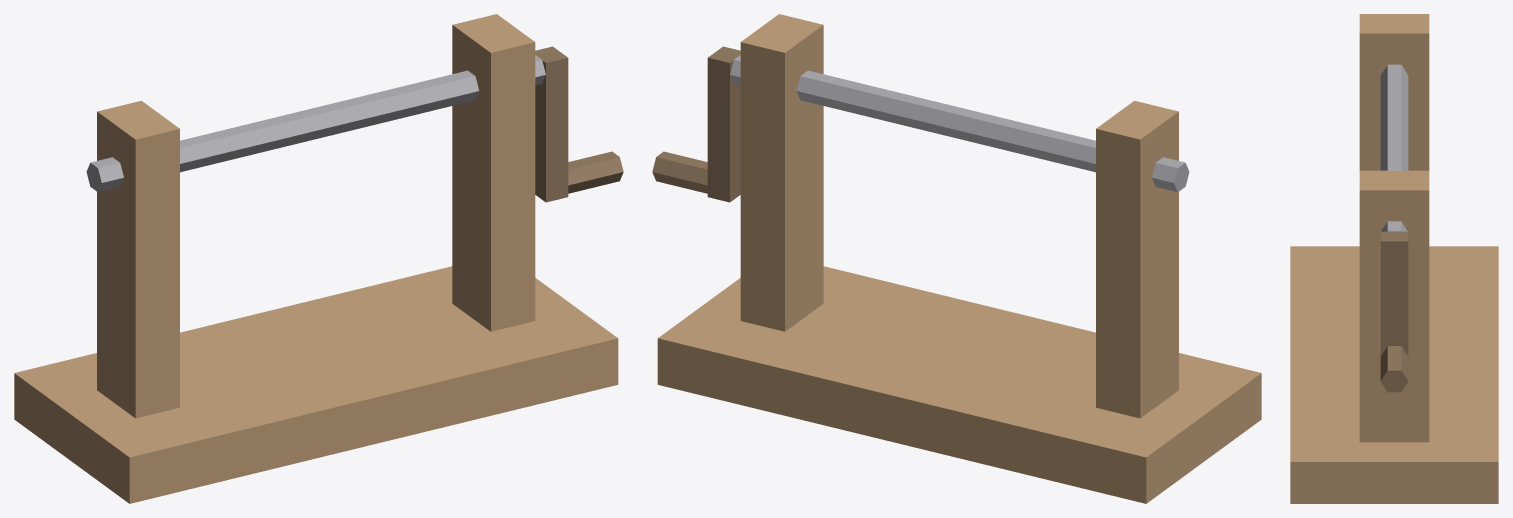
Rendered from prop-bobbin-winder-lb1.fbx.
3 views of the same model, side by side, from view 1: azimuth 30°, elevation 25°; view 2: azimuth 150°, elevation 25°; view 3: azimuth 270°, elevation 25° (orthographic). The views are drawn at different scales.
Visible parts, largest first — view 1: prop-bobbin-winder-lb1; view 2: prop-bobbin-winder-lb1; view 3: prop-bobbin-winder-lb1.
Boxes of the visible parts, bbox=[...] form: prop-bobbin-winder-lb1: bbox=[14, 14, 623, 503]; prop-bobbin-winder-lb1: bbox=[652, 14, 1261, 503]; prop-bobbin-winder-lb1: bbox=[1290, 14, 1498, 503].
Bounding box in the file's own units: 24.5 × 14 × 9.
